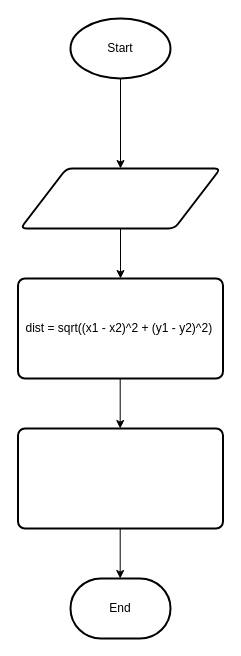
Image size: 241x656. Some labels were removed from this diagram. The box of each missing label's shape, as (x1, y1, x2, y2) in pixels:
INPUT x1, y1, x2, y2: (19, 167, 221, 229)
print(f"{dist:.2f}"): (16, 427, 224, 529)
